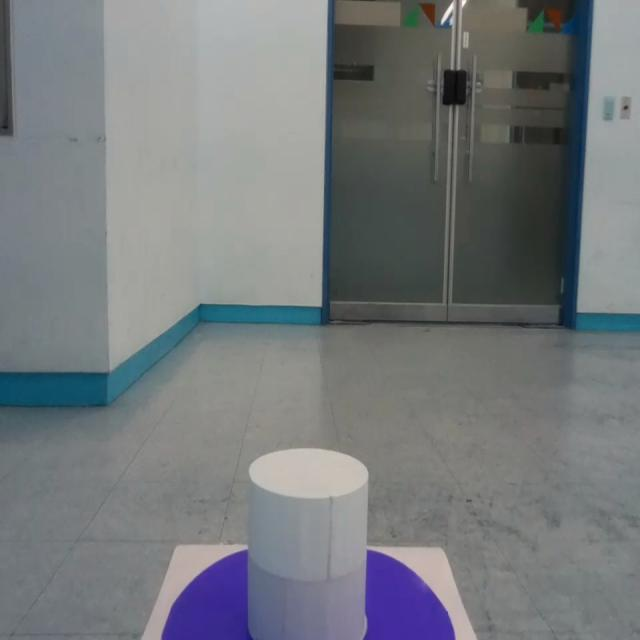cylinder: (245, 448, 371, 640)
